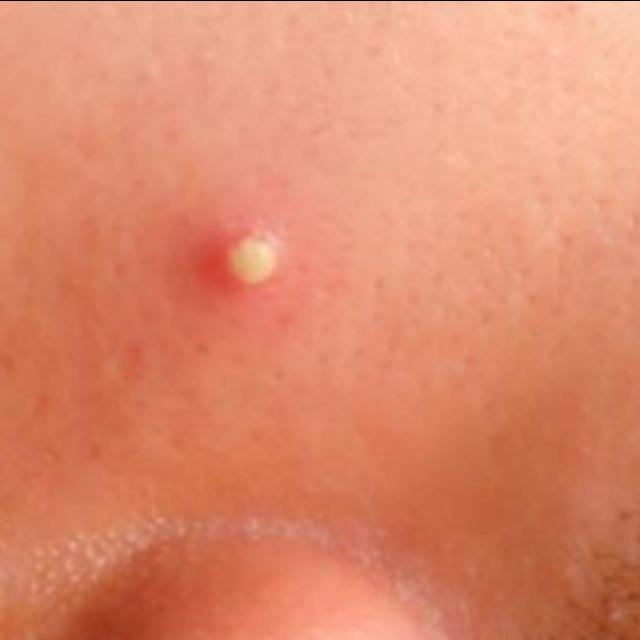pustule: (191, 188, 317, 307)
